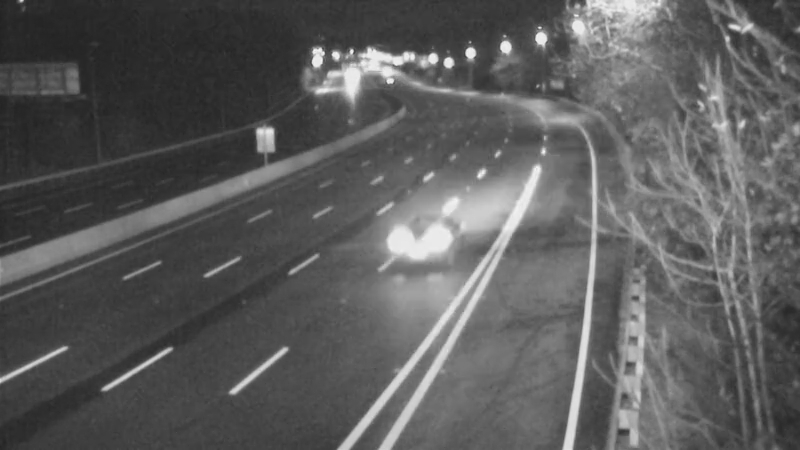vehicle: (375, 203, 455, 283), (326, 55, 376, 105)
